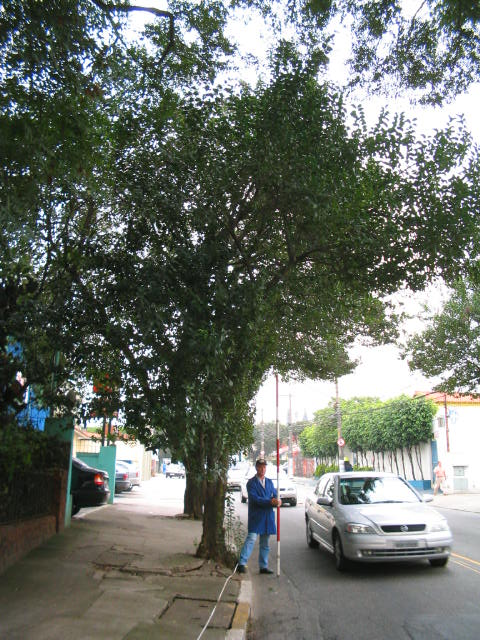crown: (103, 70, 473, 450)
stem: (195, 461, 247, 566)
stick: (267, 374, 292, 577)
tree: (100, 68, 475, 568)
